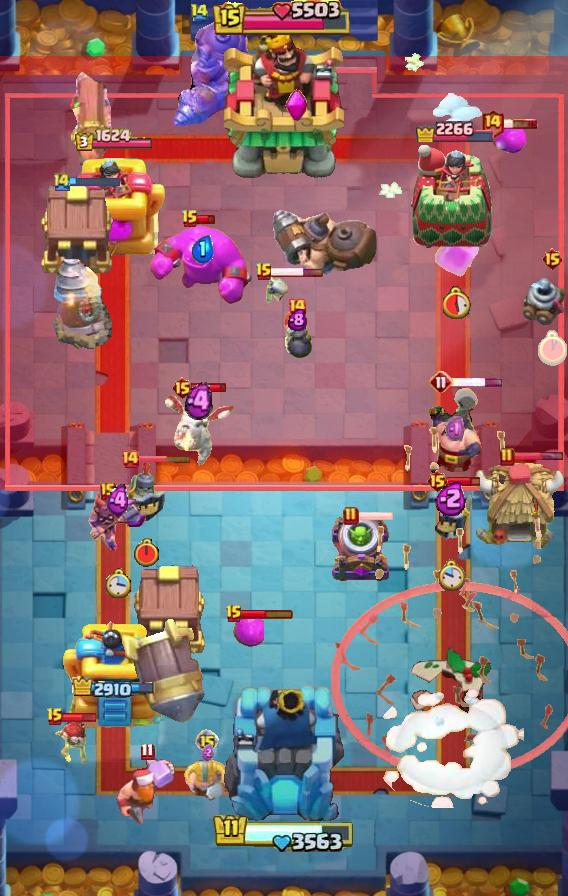battle-healer: (67, 64, 115, 178)
bomb: (38, 182, 118, 276), (128, 562, 208, 656)
clock: (212, 813, 356, 855), (213, 0, 355, 38)
clone: (148, 224, 256, 306)
electro-spirit: (436, 480, 469, 516), (185, 383, 213, 422), (105, 484, 130, 517), (191, 235, 214, 263), (445, 415, 467, 443), (288, 308, 308, 332), (201, 744, 214, 761)
elixir: (538, 330, 566, 366), (437, 559, 465, 593), (444, 286, 472, 319), (132, 538, 159, 568), (104, 568, 131, 598)
emote: (241, 608, 295, 620), (70, 175, 122, 187), (270, 266, 324, 277), (451, 376, 504, 387), (512, 451, 564, 462), (138, 454, 192, 463), (446, 475, 481, 488), (358, 510, 395, 522), (502, 118, 538, 130), (191, 383, 228, 394), (62, 712, 98, 723), (196, 215, 216, 226)
goblin-cage: (328, 514, 392, 584)
goblin-drill: (522, 271, 568, 325)
goblin-giant: (183, 759, 231, 802)
heal-spirit: (264, 275, 292, 305)
ice-golem: (52, 721, 90, 767), (281, 309, 313, 359)
king-tower: (224, 29, 344, 181), (221, 682, 347, 826)
knight-evolution: (434, 224, 480, 277)
magic-archer: (52, 258, 112, 350)
mighty-miner: (115, 756, 179, 826)
miner: (492, 125, 528, 155), (232, 617, 264, 647)
mini-pekka: (162, 390, 236, 470)
monk: (427, 387, 485, 473)
prince: (471, 461, 565, 551)
princess: (121, 460, 171, 524), (427, 486, 475, 546)
queen-tower: (60, 617, 168, 731), (62, 156, 166, 256), (410, 144, 496, 255)
selected: (414, 114, 495, 141), (71, 675, 156, 700), (74, 127, 154, 153)
skeleton-barrel: (328, 425, 567, 779)
skeleton-king-skill: (284, 89, 308, 123)
tesla-evolution: (87, 488, 149, 556)
text: (479, 109, 504, 140), (540, 247, 564, 271), (429, 370, 453, 394), (195, 729, 219, 753), (171, 376, 194, 400), (427, 469, 450, 493), (52, 171, 72, 193), (287, 297, 307, 317), (120, 449, 140, 469), (181, 209, 199, 229), (255, 262, 273, 282), (225, 604, 243, 624), (46, 707, 64, 727), (191, 3, 210, 21), (499, 447, 515, 467), (343, 506, 359, 526), (100, 482, 116, 500), (140, 743, 155, 762)
wall-breaker: (372, 686, 524, 808)
wizard: (170, 15, 252, 129), (269, 207, 381, 277)
x-bow: (121, 616, 205, 724)
